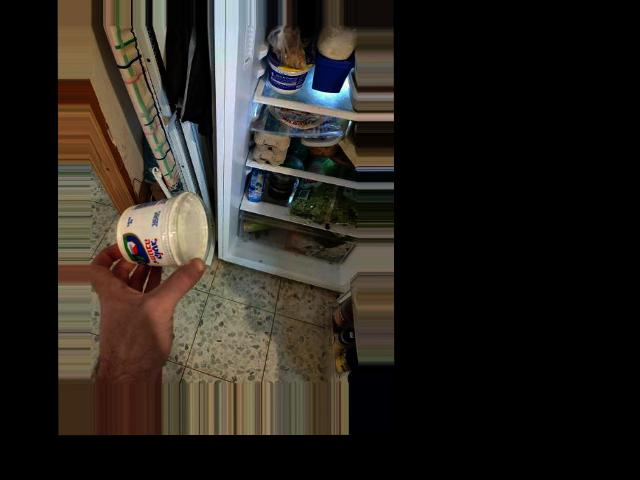cotage: (117, 195, 212, 266)
